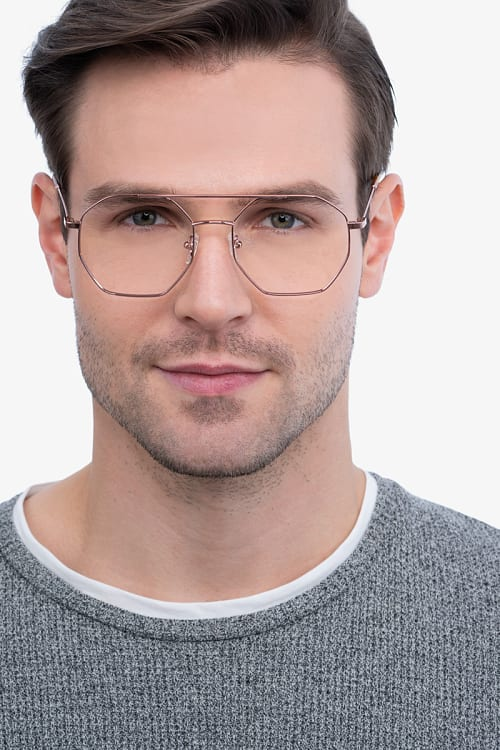llen: (232, 196, 350, 294)
rlen: (79, 194, 194, 295)
